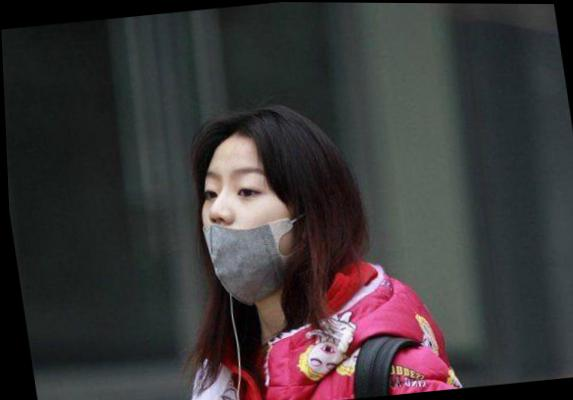WRONG: (188, 151, 304, 298)
